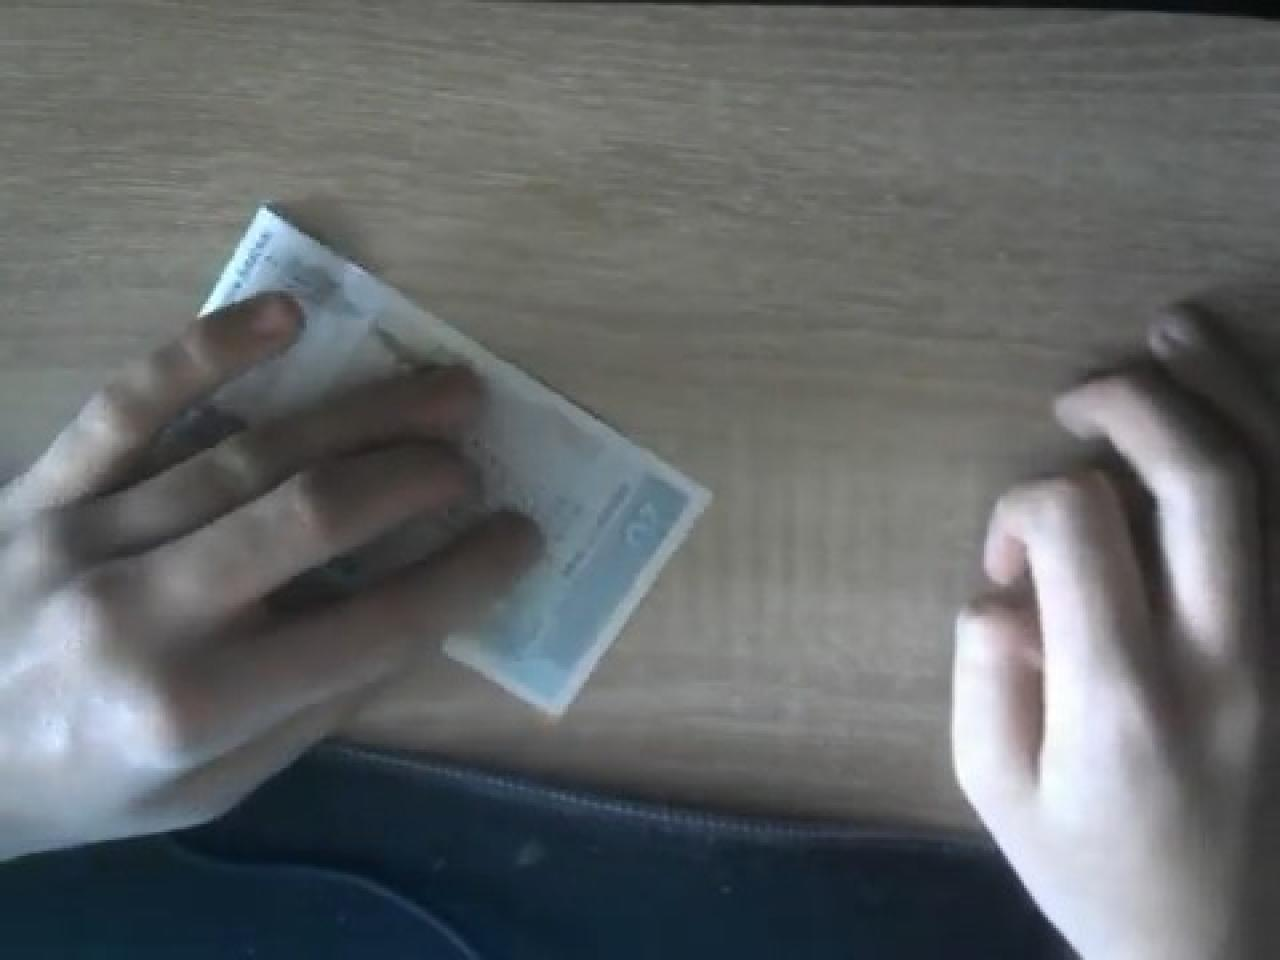20leva: (149, 203, 715, 715)
